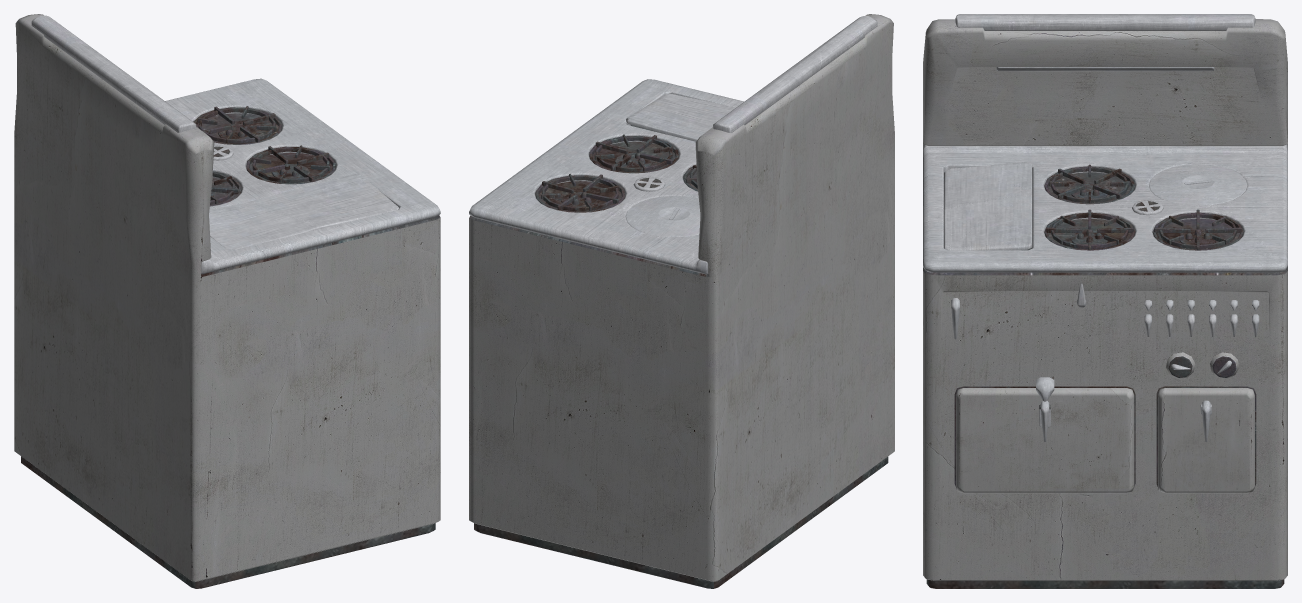
The model's file is SM_Oven.FBX.
The picture shows the model from 3 angles, left to right: view 1: azimuth 30°, elevation 25°; view 2: azimuth 150°, elevation 25°; view 3: azimuth 270°, elevation 25°; orthographic projection.
Parts seen in each view (by area): view 1: SM_Oven_LOD0; view 2: SM_Oven_LOD0; view 3: SM_Oven_LOD0.
Boxes of the visible parts, x1=… form: SM_Oven_LOD0: x1=14, y1=14, x2=440, y2=588; SM_Oven_LOD0: x1=469, y1=14, x2=894, y2=588; SM_Oven_LOD0: x1=923, y1=14, x2=1287, y2=588.
Size of what is drawn, in the model's own units: 84.6 by 134 by 97.18.
